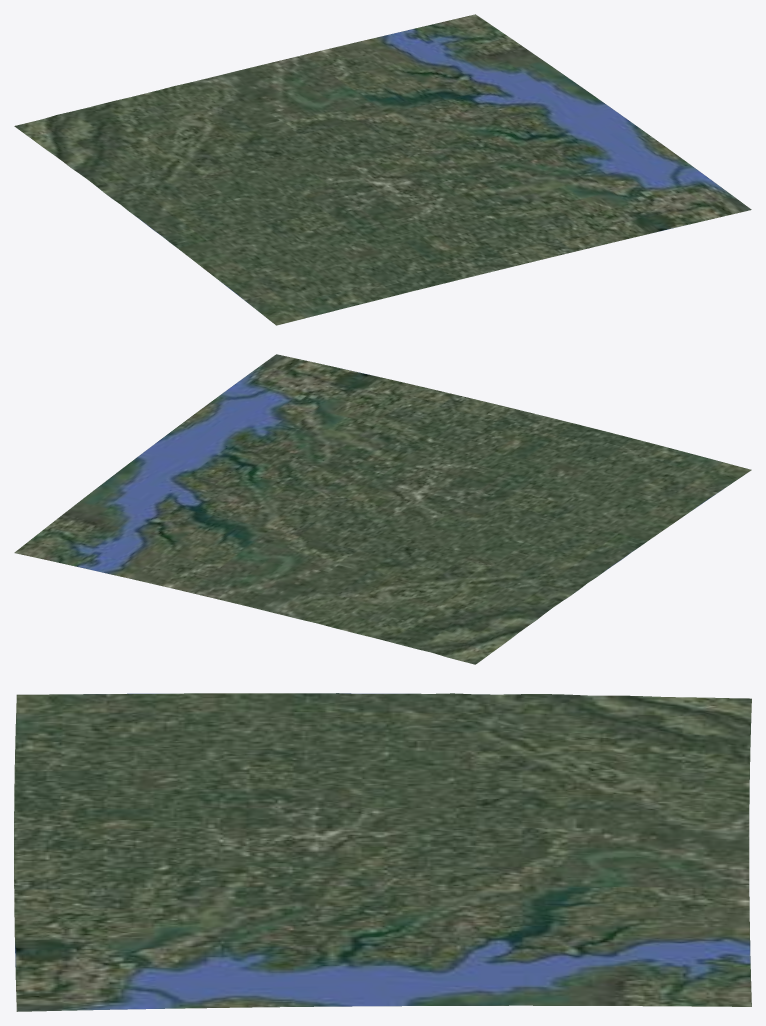
3 views of the same model, one above another, from view 1: azimuth 30°, elevation 25°; view 2: azimuth 150°, elevation 25°; view 3: azimuth 270°, elevation 25° (orthographic). The views are drawn at different scales.
Size of the model in its own units: 251634 by 2475 by 247831.
1 material, 1 textured.
